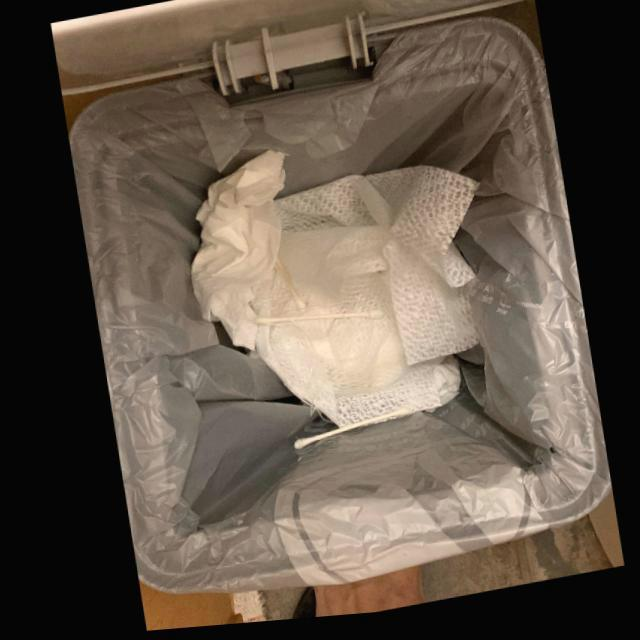paper: (246, 173, 476, 437), (186, 154, 283, 355)
